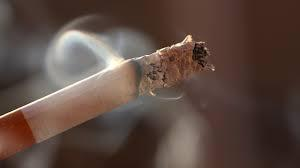smoke: (0, 36, 216, 165)
